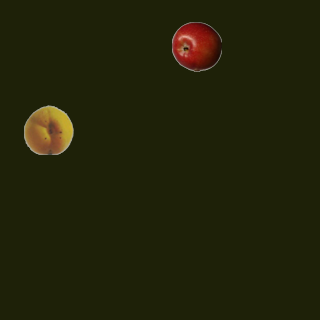Apple Braeburn: (171, 21, 221, 71)
Peach 2: (23, 104, 73, 154)
